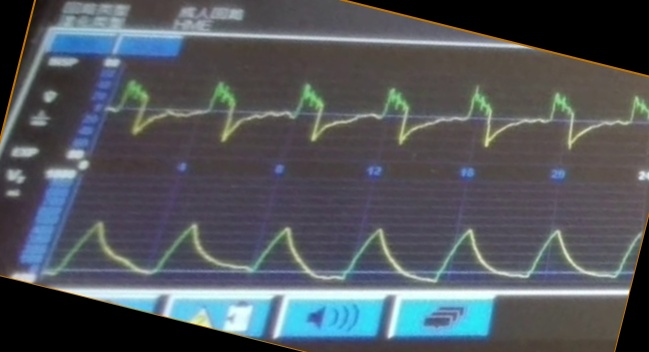Accumulation Flow: (122, 73, 640, 160)
Volume: (77, 186, 623, 287)
